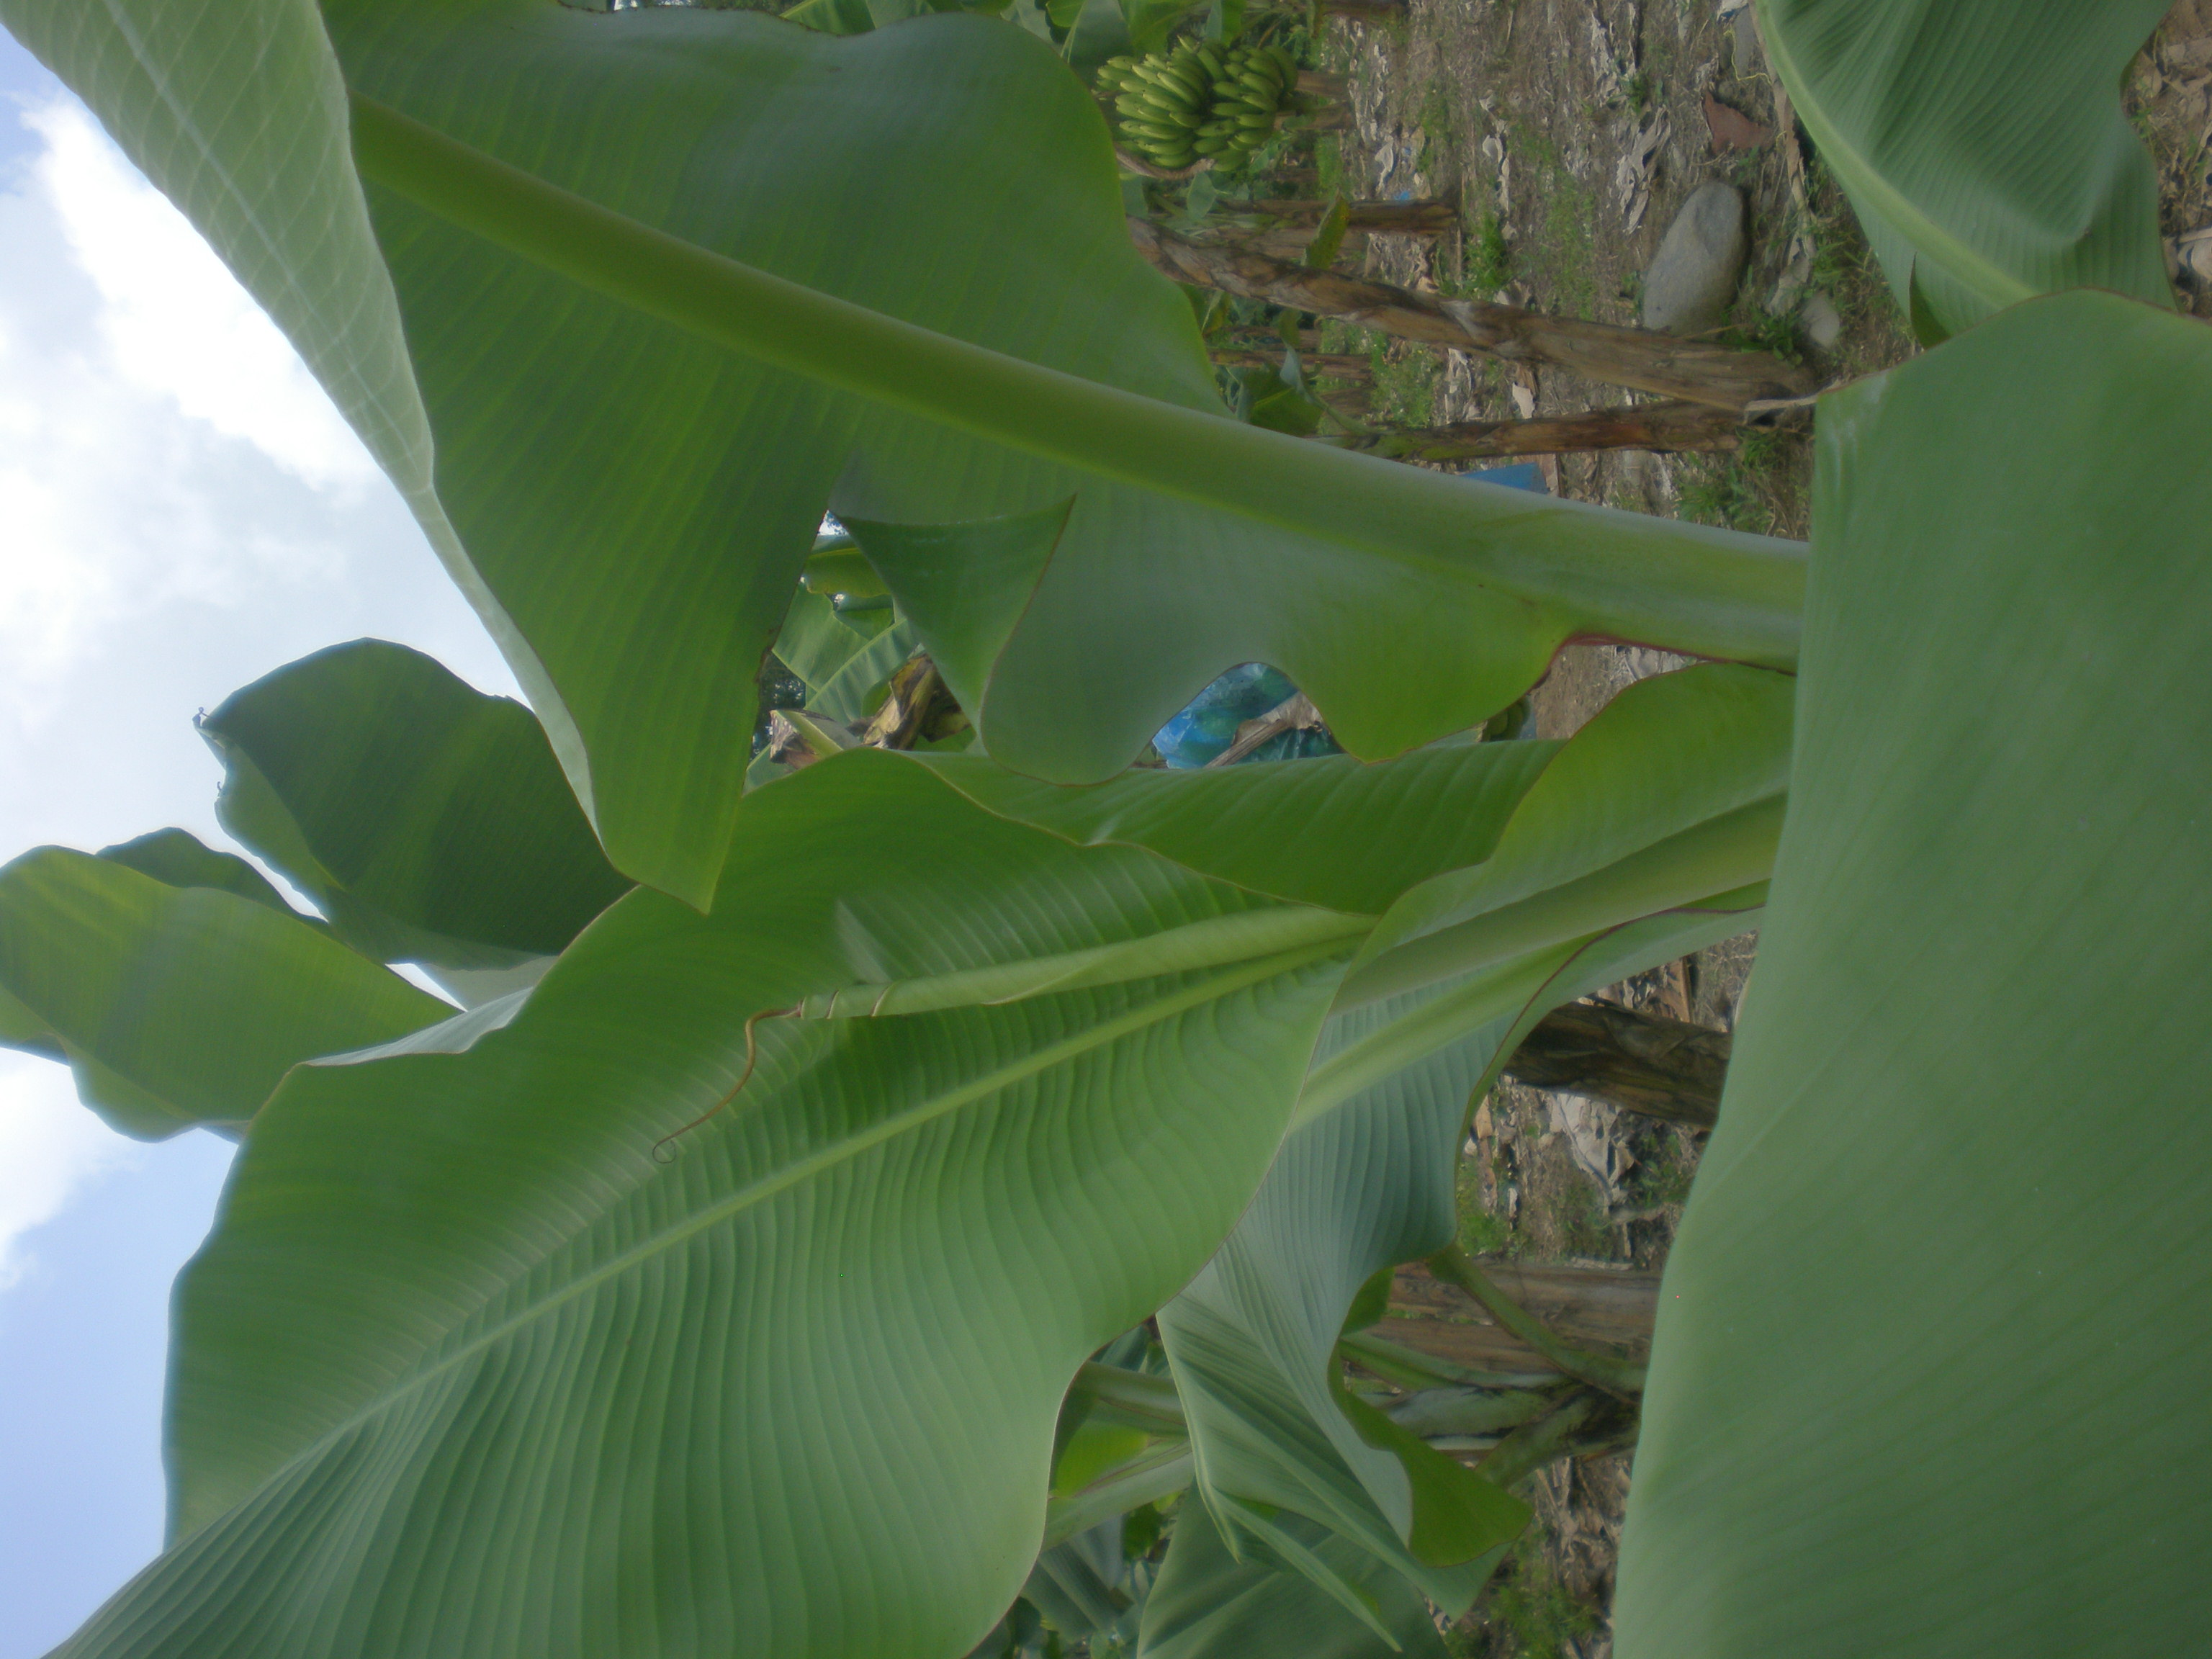candleleafs: (737, 892, 1294, 1035)
